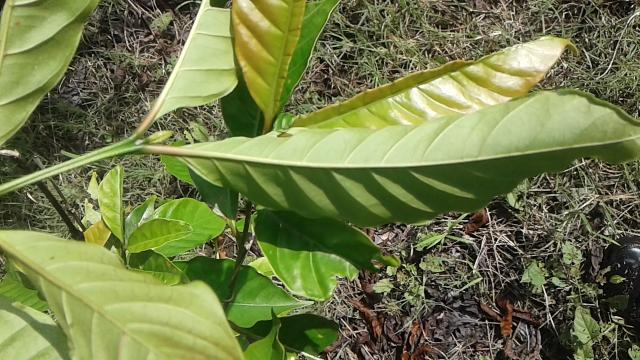healthy: (172, 90, 638, 226)
